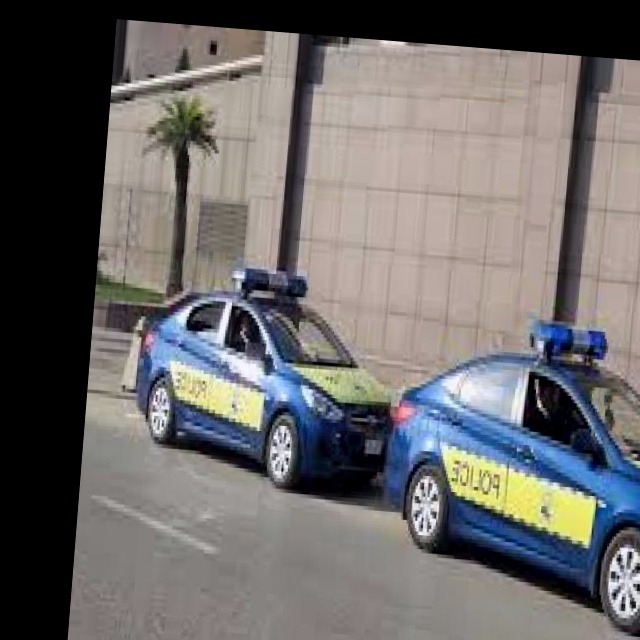police-car: (373, 305, 640, 634), (127, 257, 405, 494)
